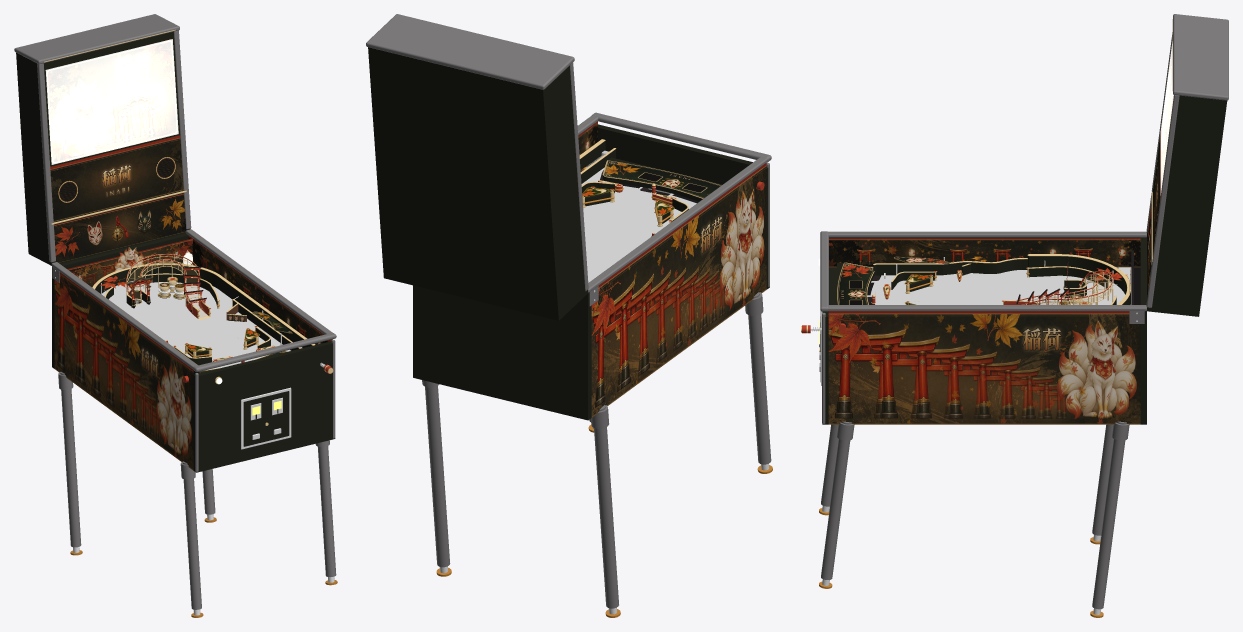
File: inari.glb
3 renders of one model, left to right at view 1: azimuth 30°, elevation 25°; view 2: azimuth 150°, elevation 25°; view 3: azimuth 270°, elevation 25°, orthographic. The views are drawn at different scales.
Parts seen in each view (by area): view 1: cabinet_side_-1, backglass, cabinet_front, speakerpanel, backbox_body, playfield, neckpanel, backbox_trim, innerwall_1, wall_outer, coindoor_panel, leg.001 (+16 smaller); view 2: backbox_body, cabinet_side_-1, cabinet_back, backbox_trim, playfield, cabinet_front, leg.001, leg.003, leg, siderail_-1, apron, lockdown (+2 smaller); view 3: cabinet_side_1, backbox_body, innerwall_-1, playfield, backbox_trim, siderail_-1, siderail_1, leg.003, leg.002, wall_fillL, backbox, apron (+8 smaller).
Boxes of the visible parts, x1=… form: cabinet_side_-1: x1=54, y1=272, x2=198, y2=470; backglass: x1=45, y1=39, x2=178, y2=164; cabinet_front: x1=193, y1=341, x2=335, y2=472; speakerpanel: x1=50, y1=135, x2=183, y2=221; backbox_body: x1=16, y1=31, x2=190, y2=265; playfield: x1=102, y1=264, x2=290, y2=369; neckpanel: x1=54, y1=193, x2=187, y2=262; backbox_trim: x1=14, y1=14, x2=179, y2=64; innerwall_1: x1=188, y1=235, x2=327, y2=344; wall_outer: x1=95, y1=265, x2=312, y2=347; coindoor_panel: x1=243, y1=391, x2=289, y2=446; leg.001: x1=60, y1=371, x2=81, y2=547; backbox_body: x1=368, y1=47, x2=587, y2=320; cabinet_side_-1: x1=591, y1=163, x2=766, y2=417; cabinet_back: x1=413, y1=285, x2=591, y2=420; backbox_trim: x1=366, y1=14, x2=574, y2=89; playfield: x1=581, y1=167, x2=696, y2=282; cabinet_front: x1=598, y1=124, x2=769, y2=289; leg.001: x1=594, y1=405, x2=618, y2=608; leg.003: x1=425, y1=386, x2=450, y2=567; leg: x1=748, y1=292, x2=771, y2=464; siderail_-1: x1=588, y1=157, x2=767, y2=292; apron: x1=603, y1=160, x2=721, y2=198; lockdown: x1=592, y1=112, x2=771, y2=162; cabinet_side_1: x1=828, y1=311, x2=1140, y2=424; backbox_body: x1=1147, y1=95, x2=1227, y2=316; innerwall_-1: x1=829, y1=238, x2=1140, y2=267; playfield: x1=867, y1=267, x2=1131, y2=304; backbox_trim: x1=1173, y1=14, x2=1228, y2=100; siderail_-1: x1=828, y1=231, x2=1146, y2=237; siderail_1: x1=827, y1=305, x2=1146, y2=311; leg.003: x1=1092, y1=421, x2=1126, y2=609; leg.002: x1=821, y1=421, x2=851, y2=579; wall_fillL: x1=873, y1=259, x2=1027, y2=275; backbox: x1=1146, y1=95, x2=1179, y2=307; apron: x1=837, y1=262, x2=873, y2=304.
Bounding box in the file's own units: 0.615 × 1.88 × 1.38.
53 materials, 25 textured.
